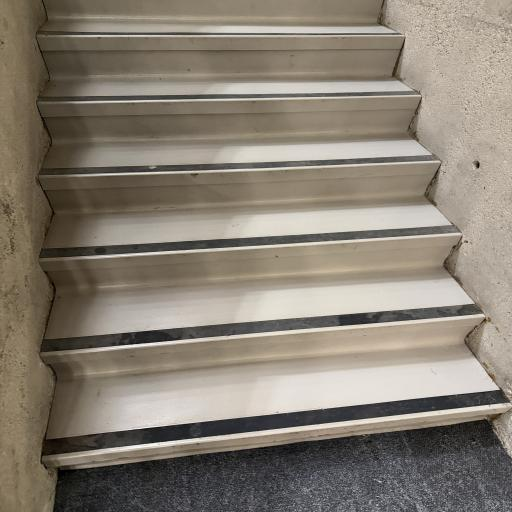Stairs: (38, 0, 510, 468)
